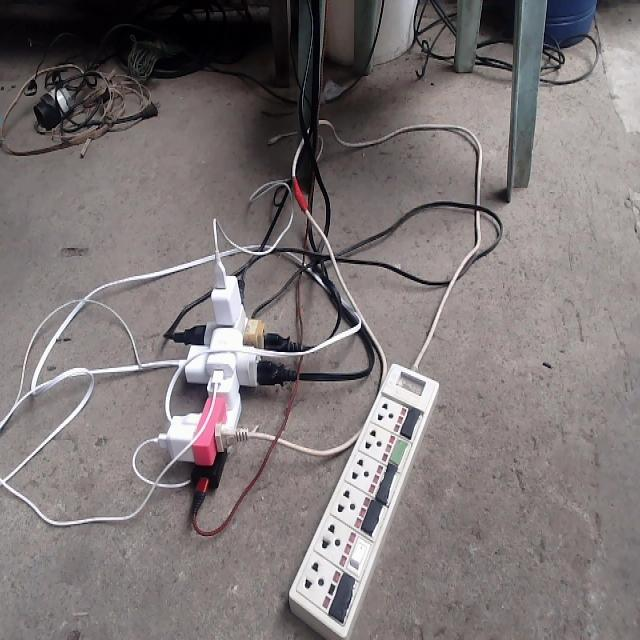-: (159, 267, 281, 488)
